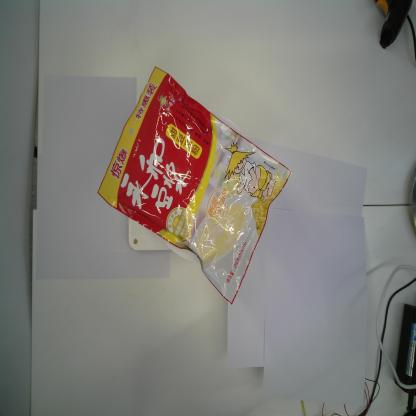Instant Drink: (96, 66, 292, 304)
